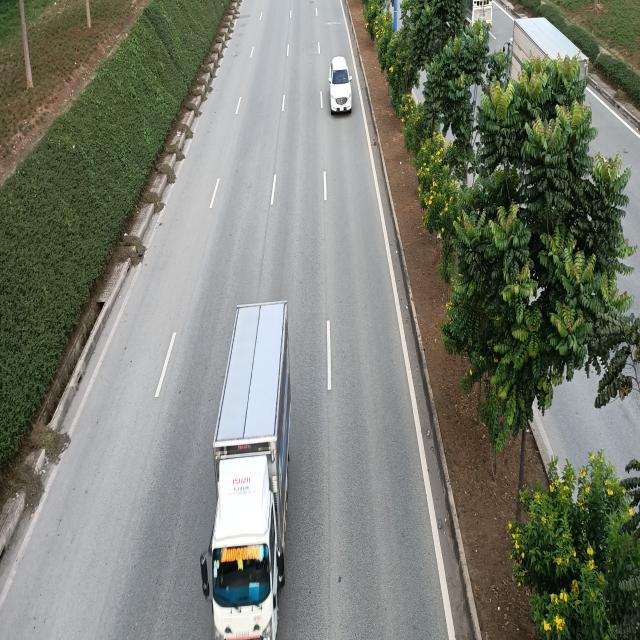car: (330, 58, 354, 116)
truck: (204, 298, 297, 635)
